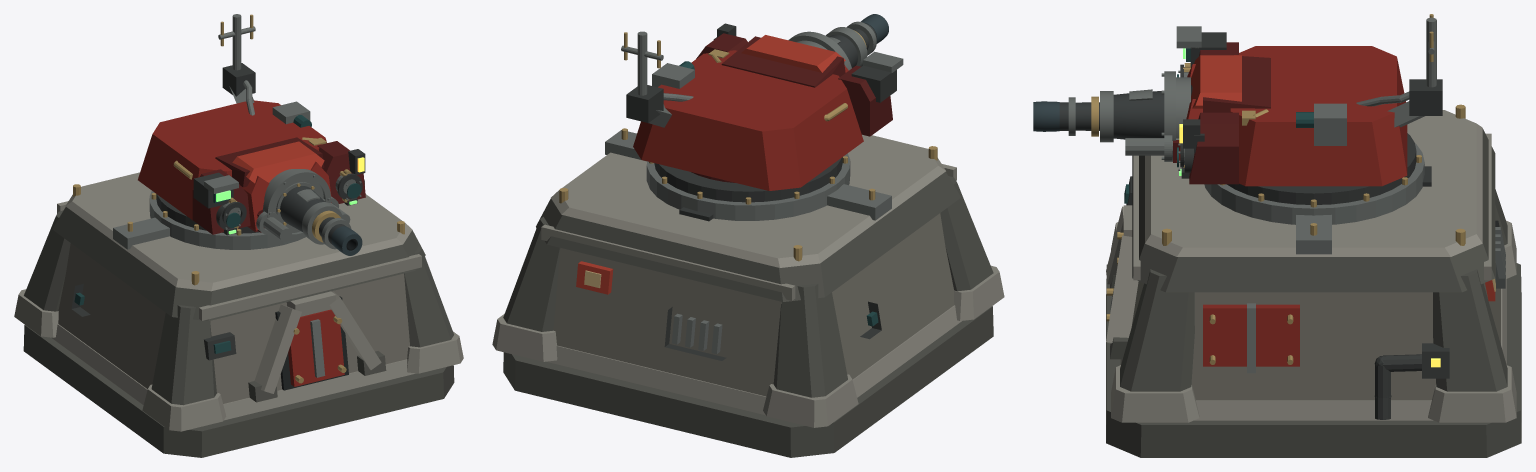
File: martian_heavy_weapon_bunker_v10_flat_export.glb
3 renders of one model, left to right at view 1: azimuth 30°, elevation 25°; view 2: azimuth 150°, elevation 25°; view 3: azimuth 270°, elevation 25°, orthographic. The views are drawn at different scales.
Parts seen in each view (by area): view 1: 03_monolithic_bunker_mass, 01_foundation_granular_ferrocrete, 05_top_concrete_skin, 16_martian_red_turret_armor, 04_upper_blast_cap, 06_corner_armor_buttress_WS, 02_lower_blast_raft, 53_south_slab_anchor_strip, 06_corner_armor_buttress_ES, 09_steel_service_hatch, 06_corner_armor_buttress_WN, 07_corner_buttress_foot_WS (+26 smaller); view 2: 03_monolithic_bunker_mass, 16_martian_red_turret_armor, 05_top_concrete_skin, 01_foundation_granular_ferrocrete, 04_upper_blast_cap, 06_corner_armor_buttress_WN, 02_lower_blast_raft, 13_ring_lower_bearing_seat, 06_corner_armor_buttress_EN, 06_corner_armor_buttress_WS, 14_ring_open_bearing_race, 07_corner_buttress_foot_WN (+17 smaller); view 3: 05_top_concrete_skin, 03_monolithic_bunker_mass, 16_martian_red_turret_armor, 01_foundation_granular_ferrocrete, 04_upper_blast_cap, 06_corner_armor_buttress_ES, 06_corner_armor_buttress_EN, 55_east_wall_controller_armor, 02_lower_blast_raft, 13_ring_lower_bearing_seat, 18_turret_front_cheek_E, 07_corner_buttress_foot_EN (+25 smaller).
Part boxes in pixels (x1,y1,x2,y2): 03_monolithic_bunker_mass: [58, 243, 409, 403]; 01_foundation_granular_ferrocrete: [23, 325, 454, 457]; 05_top_concrete_skin: [65, 172, 412, 291]; 16_martian_red_turret_armor: [138, 100, 326, 220]; 04_upper_blast_cap: [52, 207, 425, 320]; 06_corner_armor_buttress_WS: [151, 305, 216, 405]; 02_lower_blast_raft: [51, 324, 416, 420]; 53_south_slab_anchor_strip: [199, 254, 421, 320]; 06_corner_armor_buttress_ES: [404, 246, 453, 347]; 09_steel_service_hatch: [288, 309, 344, 386]; 06_corner_armor_buttress_WN: [24, 210, 70, 311]; 07_corner_buttress_foot_WS: [142, 384, 226, 431]; 03_monolithic_bunker_mass: [553, 213, 954, 396]; 16_martian_red_turret_armor: [633, 50, 863, 190]; 05_top_concrete_skin: [551, 133, 945, 267]; 01_foundation_granular_ferrocrete: [503, 306, 993, 457]; 04_upper_blast_cap: [536, 172, 960, 301]; 06_corner_armor_buttress_WN: [773, 283, 847, 397]; 02_lower_blast_raft: [547, 305, 961, 415]; 13_ring_lower_bearing_seat: [646, 153, 850, 220]; 06_corner_armor_buttress_EN: [503, 216, 560, 331]; 06_corner_armor_buttress_WS: [940, 176, 993, 291]; 14_ring_open_bearing_race: [654, 157, 842, 202]; 07_corner_buttress_foot_WN: [763, 374, 858, 427]; 05_top_concrete_skin: [1145, 110, 1482, 256]; 03_monolithic_bunker_mass: [1131, 261, 1500, 400]; 16_martian_red_turret_armor: [1230, 46, 1407, 186]; 01_foundation_granular_ferrocrete: [1106, 263, 1521, 457]; 04_upper_blast_cap: [1132, 128, 1495, 292]; 06_corner_armor_buttress_ES: [1120, 269, 1194, 391]; 06_corner_armor_buttress_EN: [1433, 269, 1507, 391]; 55_east_wall_controller_armor: [1203, 304, 1299, 366]; 02_lower_blast_raft: [1120, 279, 1506, 420]; 13_ring_lower_bearing_seat: [1204, 143, 1424, 224]; 18_turret_front_cheek_E: [1189, 112, 1238, 184]; 07_corner_buttress_foot_EN: [1428, 365, 1516, 422].
Bounding box in the file's own units: 3.04 × 3.01 × 3.53.
